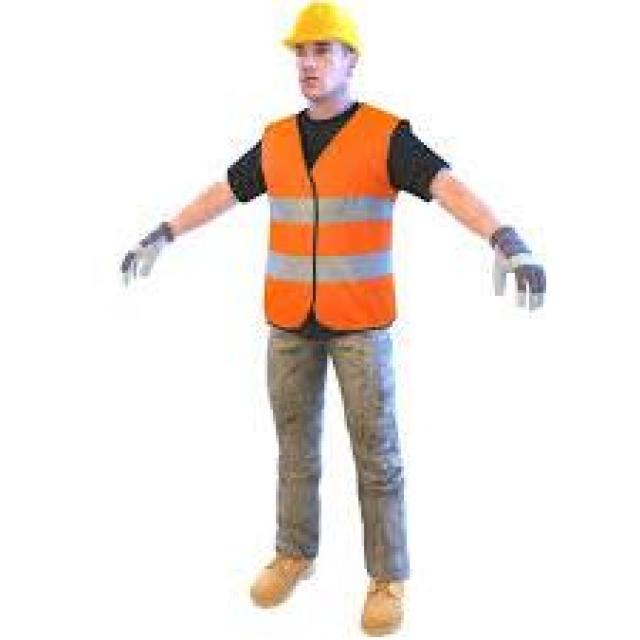Reflective-Jacket: (248, 102, 410, 338)
Safety-Helmet: (276, 0, 373, 60)
